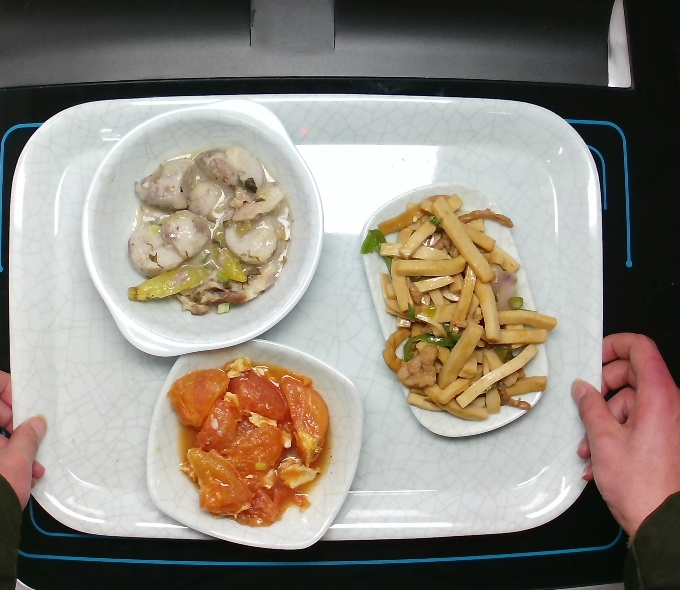wcq-FanQieChaoDan: (155, 355, 339, 534)
wcq-QianYeDouFu: (343, 184, 560, 427)
wcq-YangYu: (116, 141, 293, 326)
